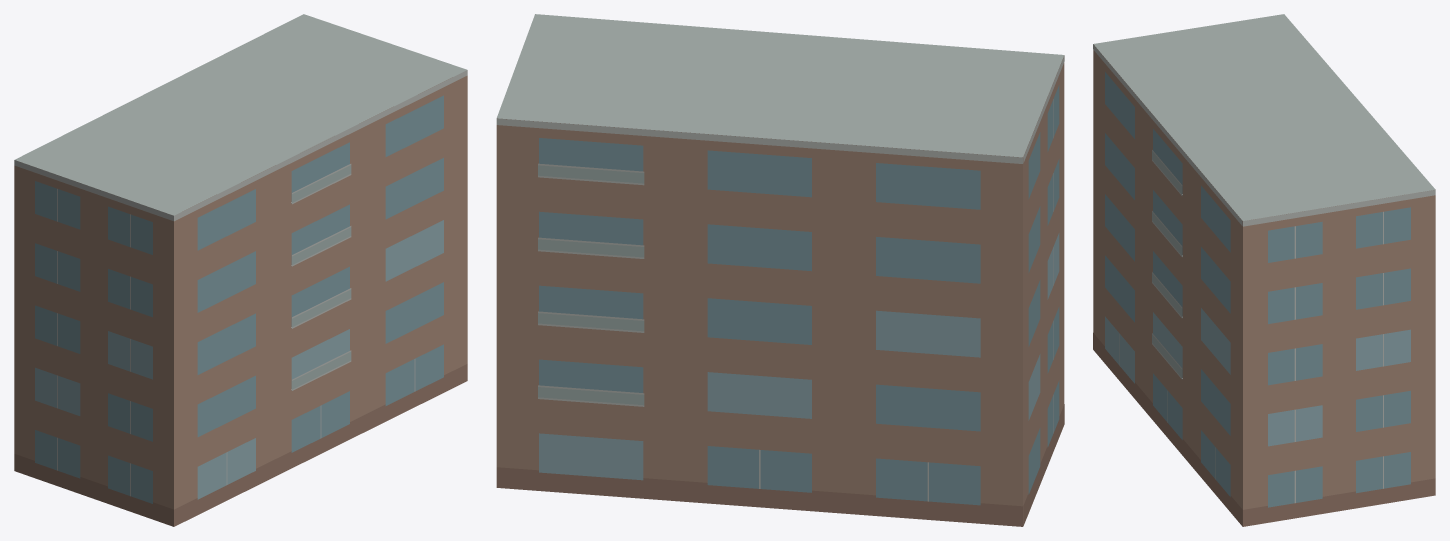
The model's file is survey-upis-32867269.glb.
3 renders of one model, left to right at view 1: azimuth 30°, elevation 25°; view 2: azimuth 150°, elevation 25°; view 3: azimuth 270°, elevation 25°, orthographic. The views are drawn at different scales.
Visible parts, largest first — view 1: survey-upis-32867269.tmp; view 2: survey-upis-32867269.tmp; view 3: survey-upis-32867269.tmp.
Boxes of the visible parts, x1=… form: survey-upis-32867269.tmp: x1=14, y1=14, x2=467, y2=526; survey-upis-32867269.tmp: x1=496, y1=14, x2=1064, y2=526; survey-upis-32867269.tmp: x1=1093, y1=14, x2=1435, y2=526.
Size of the model in its own units: 19.63 by 13.5 by 13.72.
